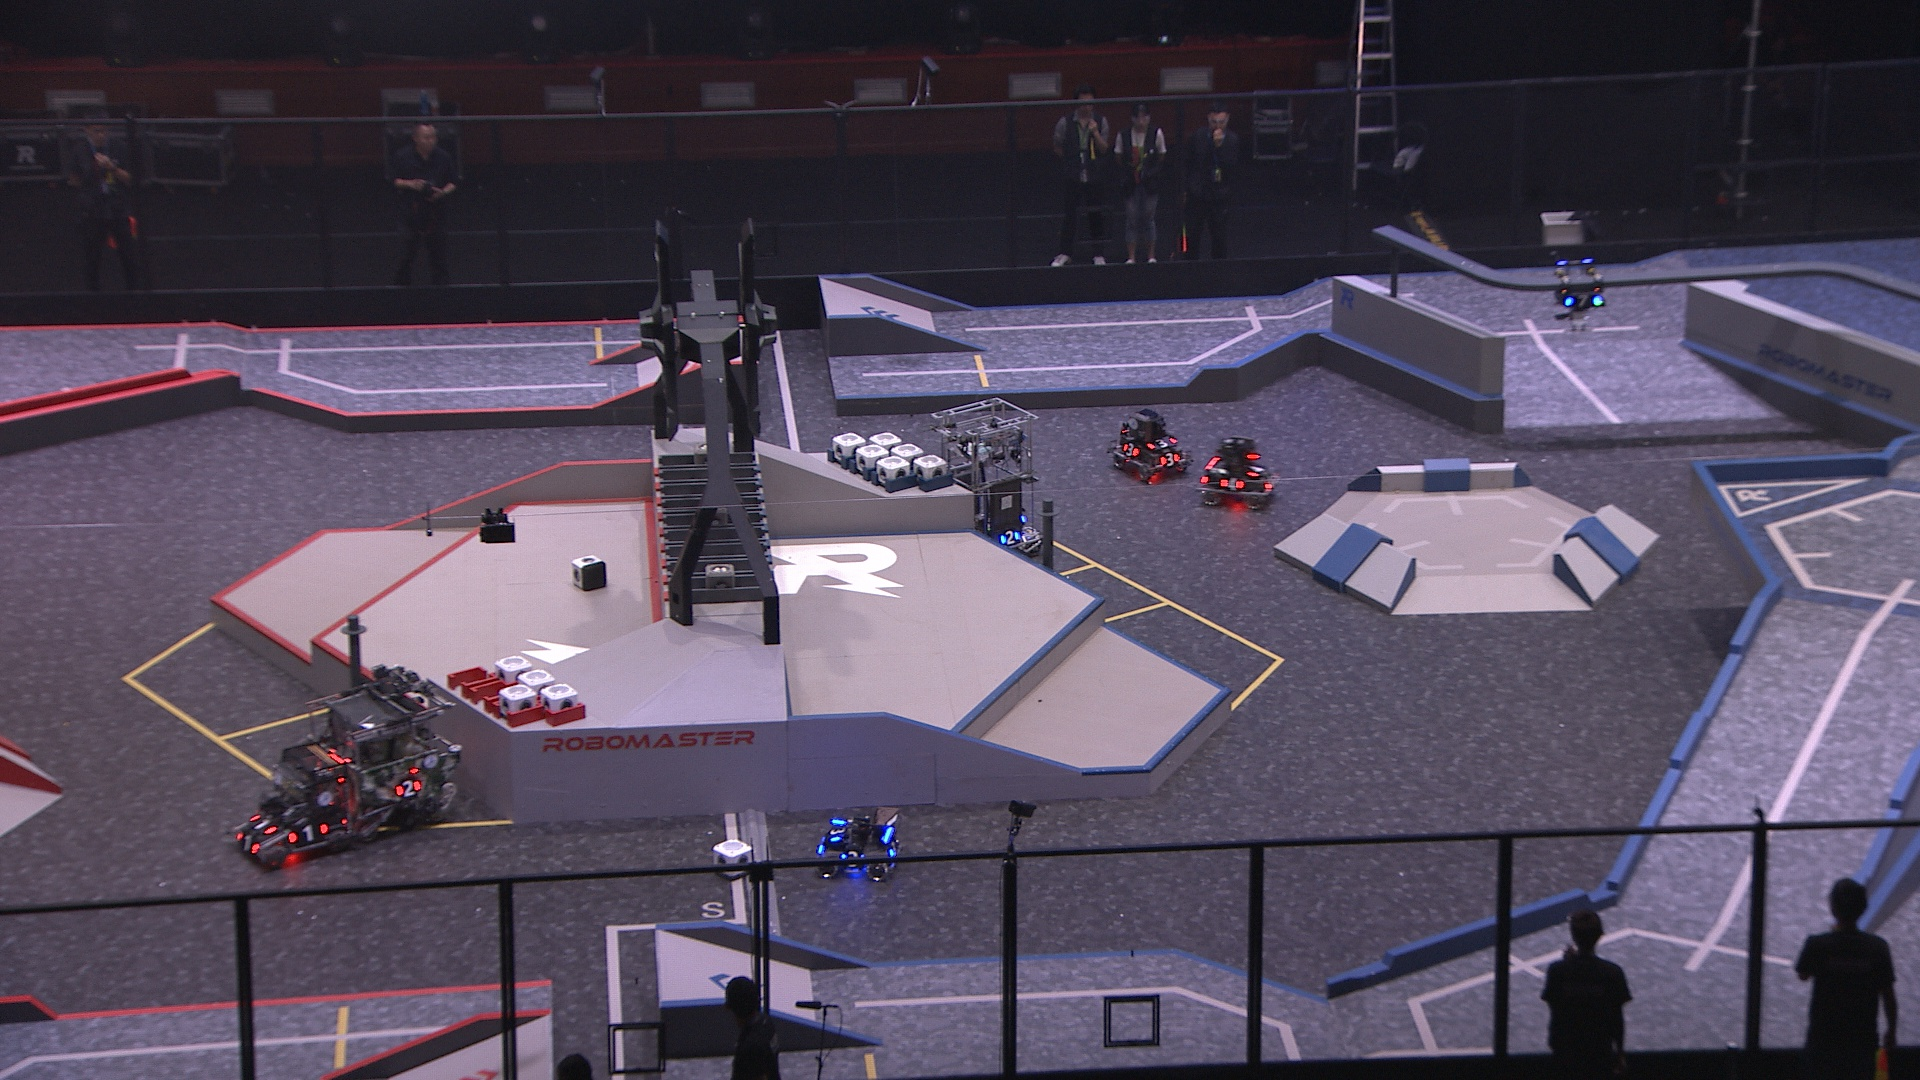armor: (289, 818, 328, 851), (229, 831, 266, 858), (247, 811, 280, 836), (1141, 433, 1182, 452), (1563, 291, 1604, 310), (394, 774, 422, 798), (825, 818, 847, 844), (998, 526, 1022, 547), (1218, 477, 1247, 495), (1159, 450, 1182, 471), (882, 837, 903, 860), (839, 851, 864, 868), (1117, 440, 1141, 458), (1245, 463, 1265, 479)
car: (297, 680, 455, 845), (928, 398, 1040, 560), (225, 741, 357, 876), (1100, 405, 1192, 485), (814, 804, 905, 884), (1199, 433, 1276, 506)
watcher: (1543, 248, 1607, 335)
